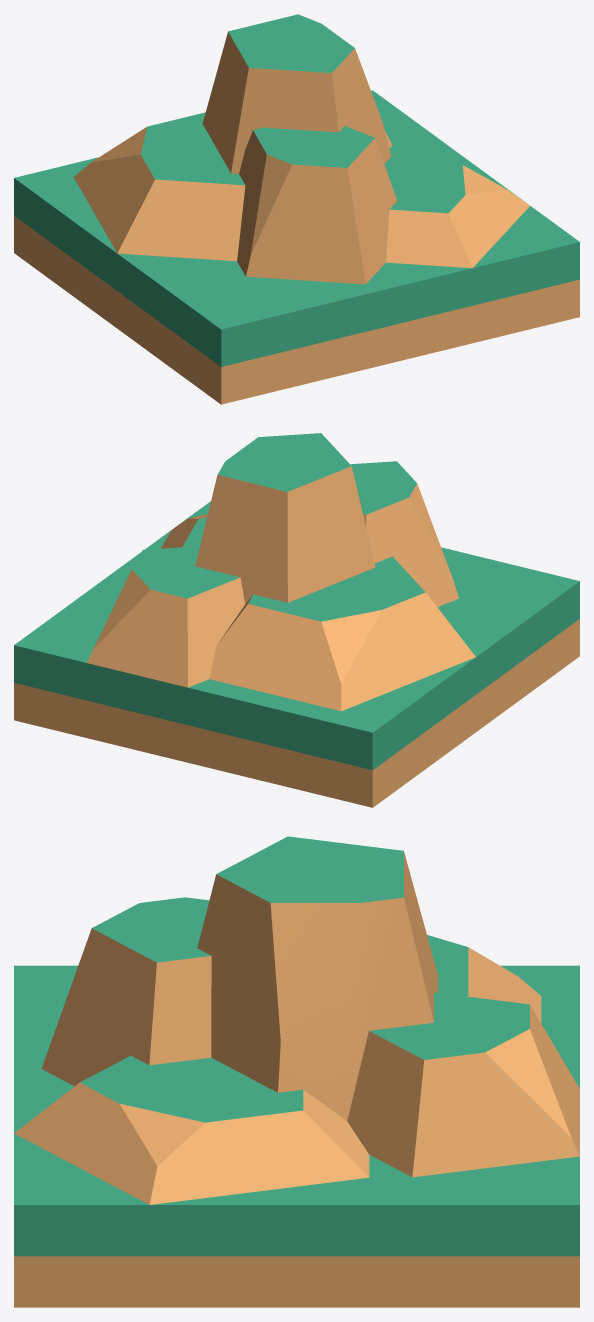
The model's file is tile_rock.dae.
The picture shows the model from 3 angles, top to bottom: view 1: azimuth 30°, elevation 25°; view 2: azimuth 150°, elevation 25°; view 3: azimuth 270°, elevation 25°; orthographic projection. The views are drawn at different scales.
Visible parts, largest first — view 1: rocks, tile_rock; view 2: rocks, tile_rock; view 3: rocks, tile_rock.
Part boxes in pixels (left/top/right/bottom): rocks: left=73, top=14, right=529, bottom=284; tile_rock: left=14, top=90, right=579, bottom=404; rocks: left=87, top=433, right=475, bottom=711; tile_rock: left=14, top=501, right=579, bottom=807; rocks: left=14, top=836, right=579, bottom=1204; tile_rock: left=14, top=965, right=579, bottom=1307.
Size of the model in its own units: 1 by 0.6186 by 1.
